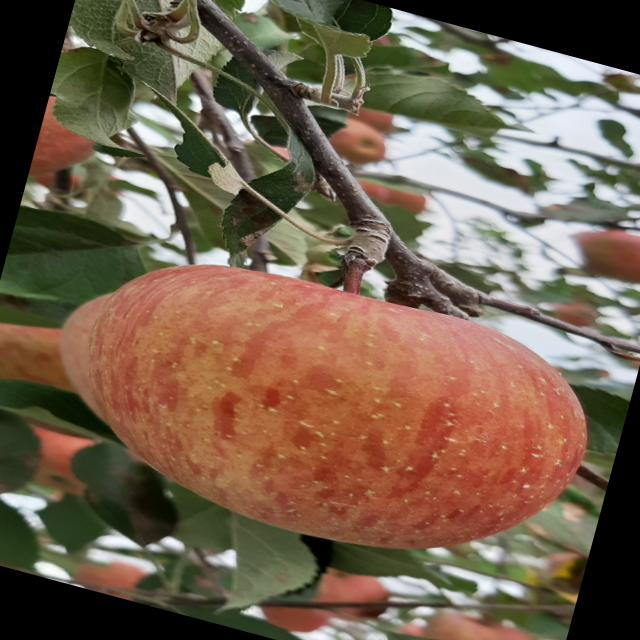fresh: (3, 205, 633, 612)
